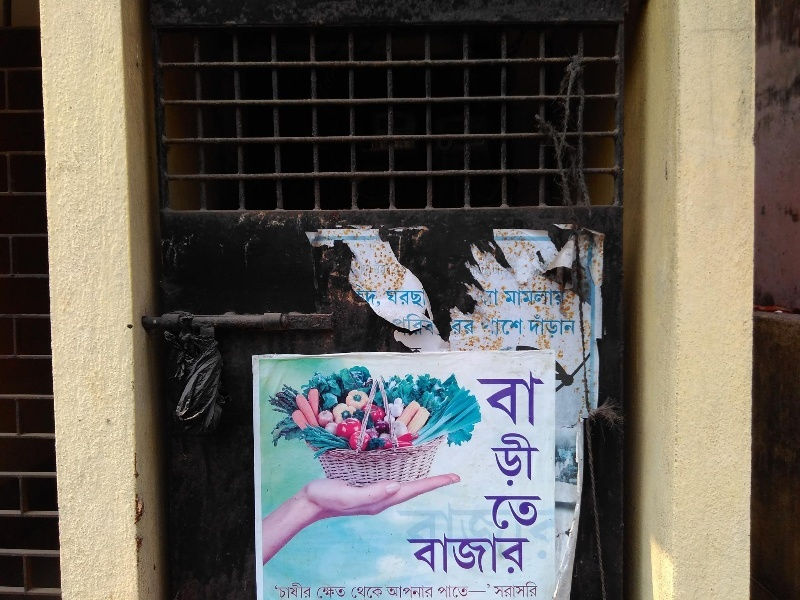text: (481, 368, 496, 531), (497, 368, 512, 531), (513, 368, 528, 531), (529, 368, 544, 531), (417, 532, 432, 576), (433, 532, 448, 576), (449, 532, 464, 576), (465, 532, 480, 576), (481, 532, 496, 576), (497, 532, 512, 576), (513, 532, 528, 576), (477, 368, 480, 531), (406, 532, 416, 576), (529, 314, 544, 340), (545, 314, 560, 340), (561, 314, 576, 340), (353, 283, 368, 309), (481, 283, 496, 308), (481, 314, 496, 338), (497, 314, 512, 338), (401, 314, 416, 338), (417, 314, 432, 338), (369, 283, 381, 309), (385, 288, 400, 308), (401, 288, 416, 308), (513, 288, 528, 307), (529, 288, 544, 307), (545, 288, 560, 307), (289, 581, 304, 599), (513, 314, 524, 338), (497, 581, 512, 598), (513, 581, 528, 598), (452, 319, 464, 339), (417, 288, 429, 308), (390, 314, 400, 338), (497, 263, 513, 278), (275, 581, 288, 599), (500, 288, 512, 307), (401, 585, 416, 600), (417, 585, 432, 600), (449, 584, 464, 599), (465, 584, 480, 599), (369, 263, 384, 278), (481, 263, 496, 278), (465, 319, 476, 339), (321, 586, 336, 600), (353, 586, 368, 600), (369, 586, 384, 600), (386, 585, 400, 600), (354, 263, 368, 278), (529, 581, 539, 598), (545, 368, 546, 531), (438, 584, 448, 599), (385, 263, 395, 278), (305, 581, 313, 599), (337, 586, 347, 600), (481, 584, 490, 599), (471, 263, 480, 278), (561, 288, 568, 307), (529, 532, 531, 576), (433, 314, 436, 338), (493, 581, 496, 598), (497, 283, 499, 308), (317, 586, 320, 600), (527, 314, 528, 340), (479, 283, 480, 308), (479, 314, 480, 338), (433, 585, 434, 600), (351, 586, 352, 600)
